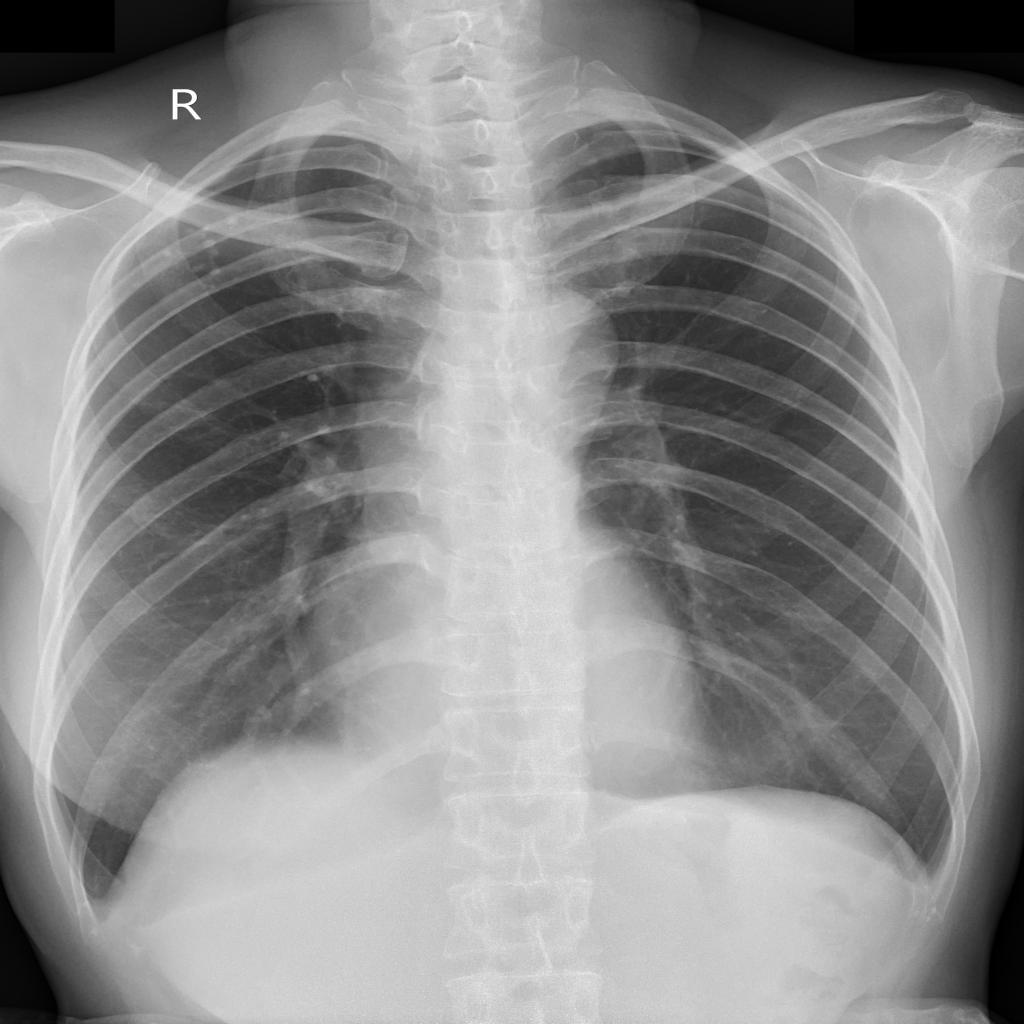Nodule: (159, 215, 243, 278)
